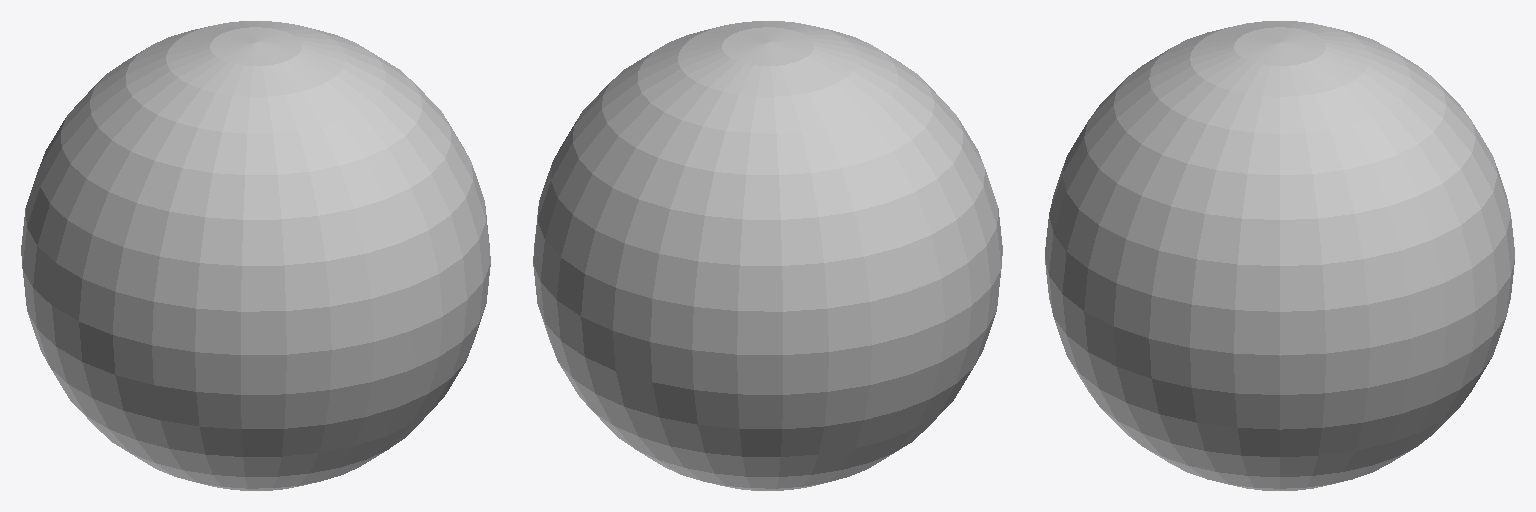
Rendered from mars.obj.
3 views of the same model, side by side, from view 1: azimuth 30°, elevation 25°; view 2: azimuth 150°, elevation 25°; view 3: azimuth 270°, elevation 25° (orthographic).
Parts seen in each view (by area): view 1: Sphere.002; view 2: Sphere.002; view 3: Sphere.002.
Boxes of the visible parts, x1,y1,x2,y2 form: Sphere.002: [21, 21, 490, 490]; Sphere.002: [533, 21, 1002, 490]; Sphere.002: [1045, 21, 1514, 490].
Size of the model in its own units: 0.9231 by 0.9231 by 0.9231.